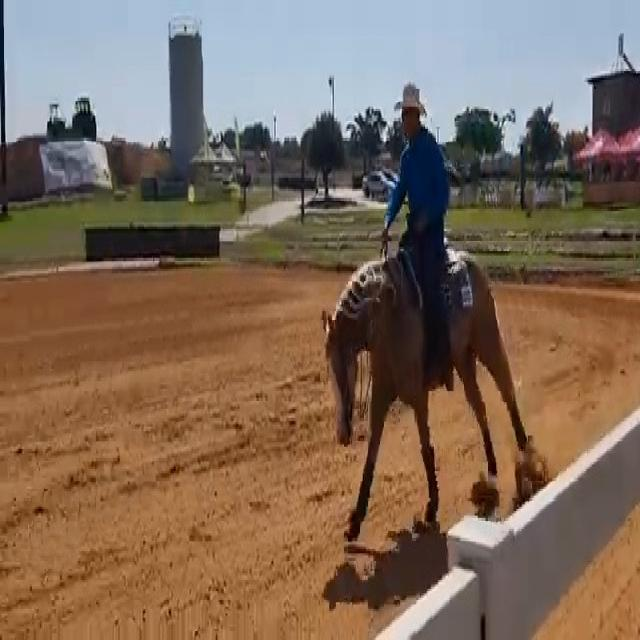horse: (320, 242, 547, 540)
